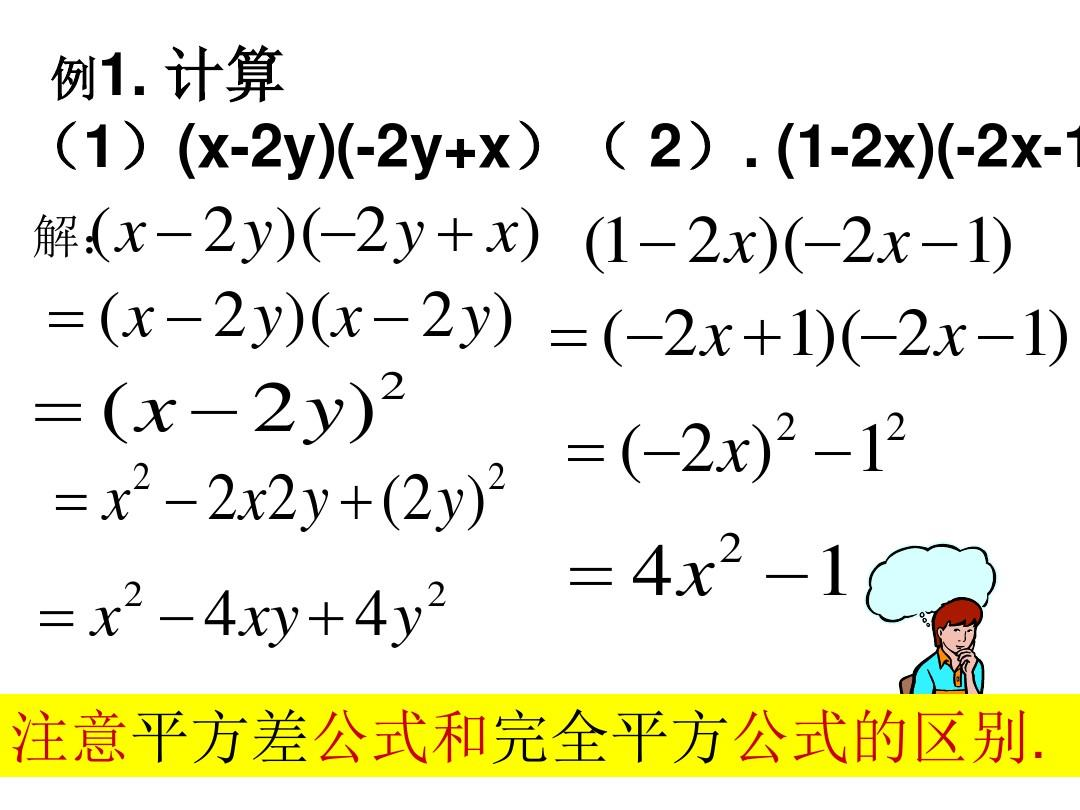square: (376, 365, 413, 403), (716, 529, 747, 565), (773, 406, 799, 446), (883, 410, 909, 444), (131, 458, 152, 495), (486, 456, 505, 495), (426, 579, 447, 611), (123, 579, 142, 610)
